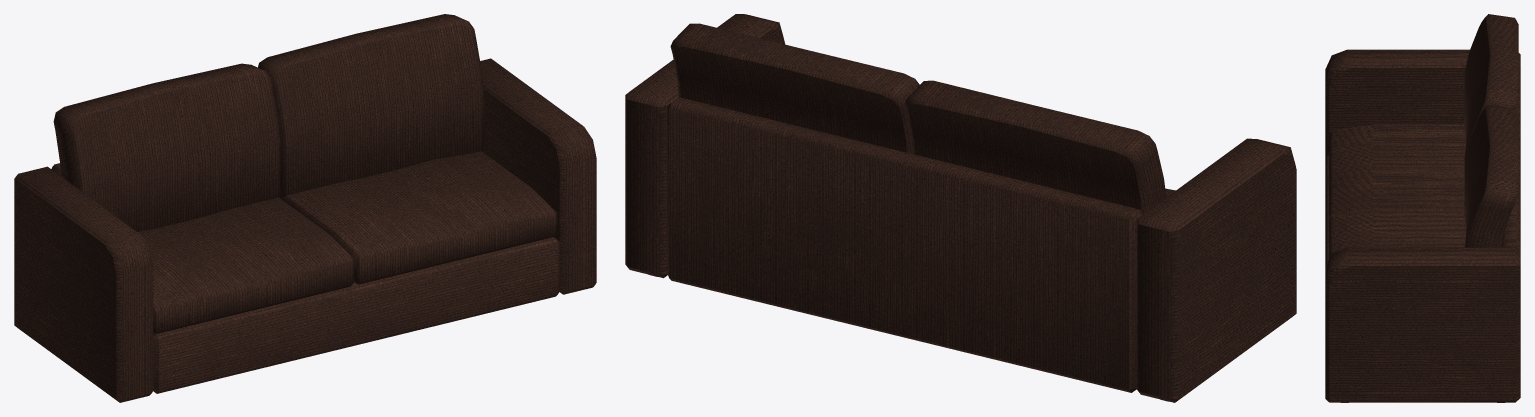
The model's file is sofa_1.glb.
3 views of the same model, side by side, from view 1: azimuth 30°, elevation 25°; view 2: azimuth 150°, elevation 25°; view 3: azimuth 270°, elevation 25° (orthographic). The views are drawn at different scales.
Parts seen in each view (by area): view 1: sofa_1; view 2: sofa_1; view 3: sofa_1.
Part boxes in pixels (x1,y1,x2,y2): sofa_1: (14, 14, 596, 402); sofa_1: (625, 14, 1296, 402); sofa_1: (1325, 14, 1520, 402).
Bounding box in the file's own units: 2.6 × 1.15 × 1.
2 materials, 2 textured.
